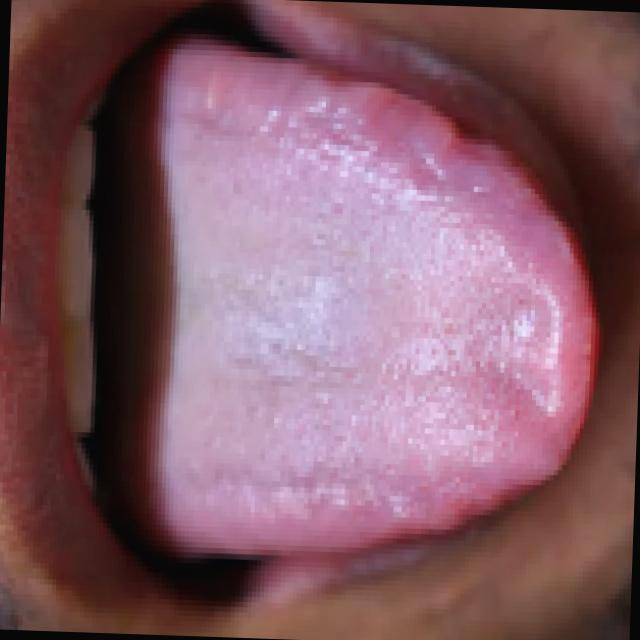No Cancer: (159, 90, 590, 548)
